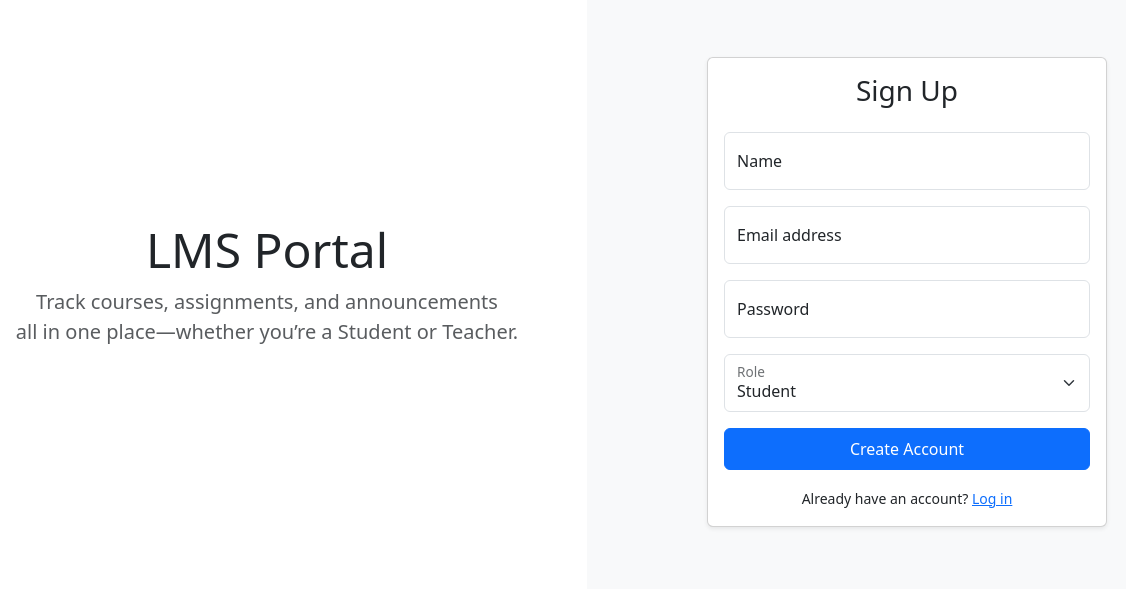
Register Page › should show Admin Key input when role is teacher
The image size is (1126, 589).
Select "Teacher" in the dropdown labelled "Role" at (907, 383), box [724, 354, 1090, 412]
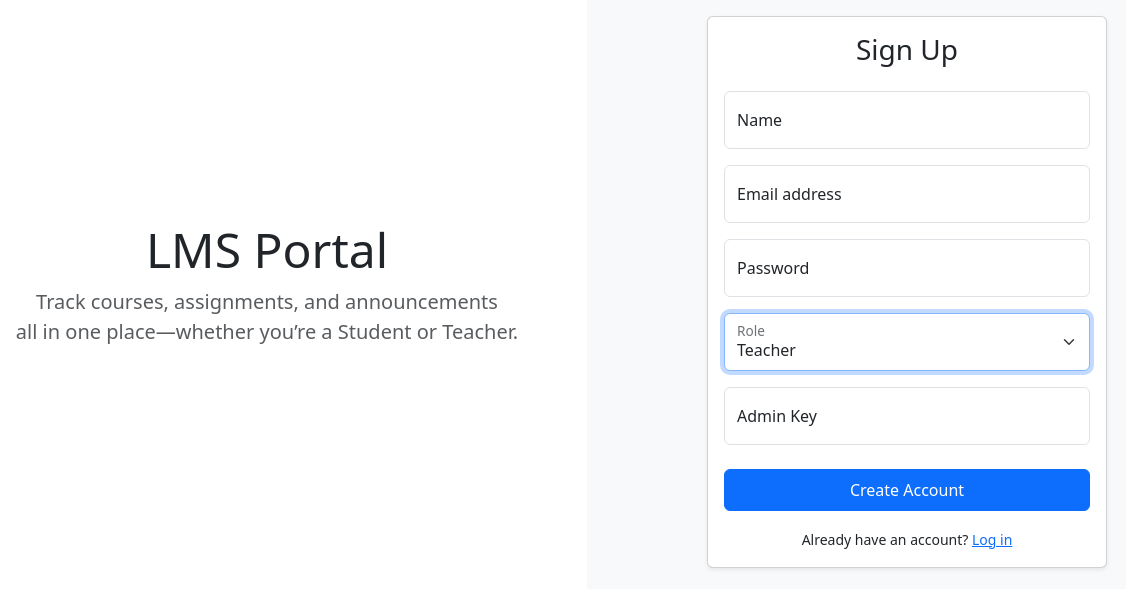
Expected: the password field with placeholder "Admin Key" is shown, [724, 387, 1090, 445]
